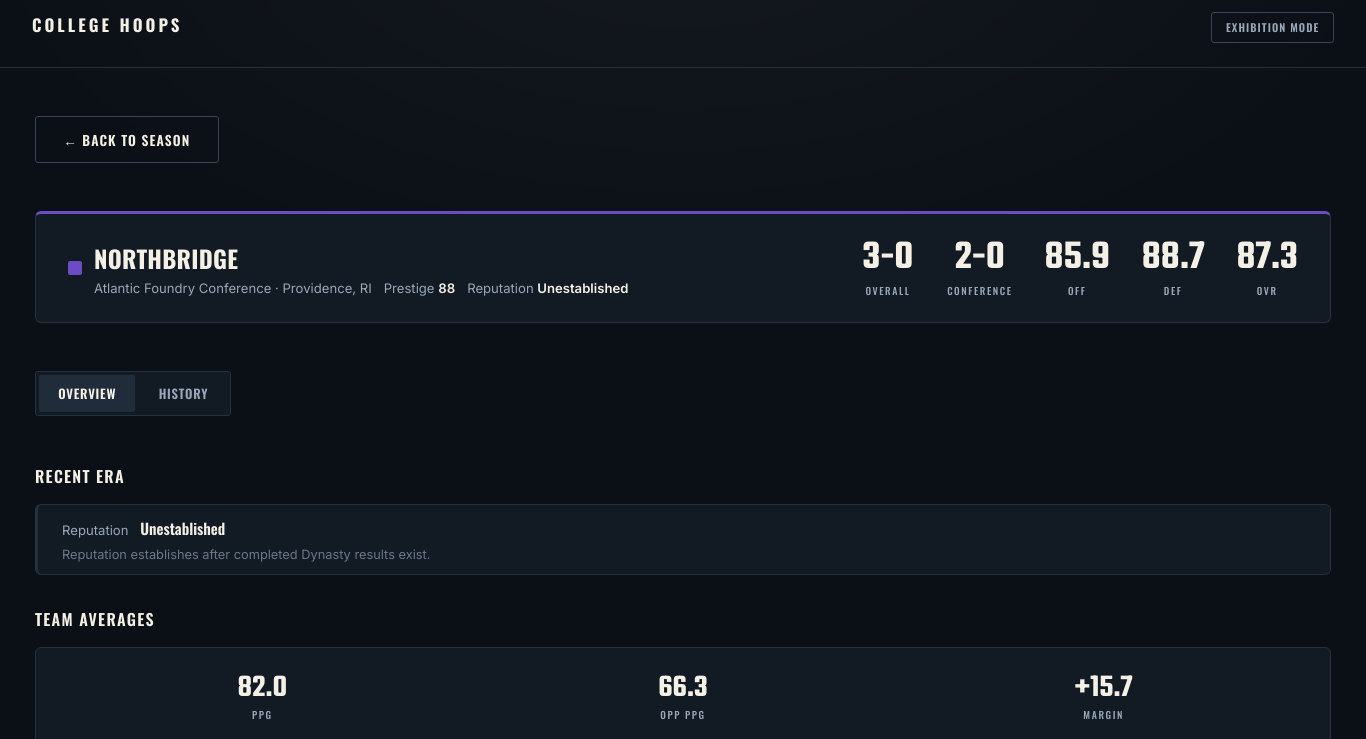
Test case: Team Details › shows live Program Player Records, switches category, and restores Team Details after Player navigation
Step 1. Click the button "History" → (183, 393), box [139,375,227,412]
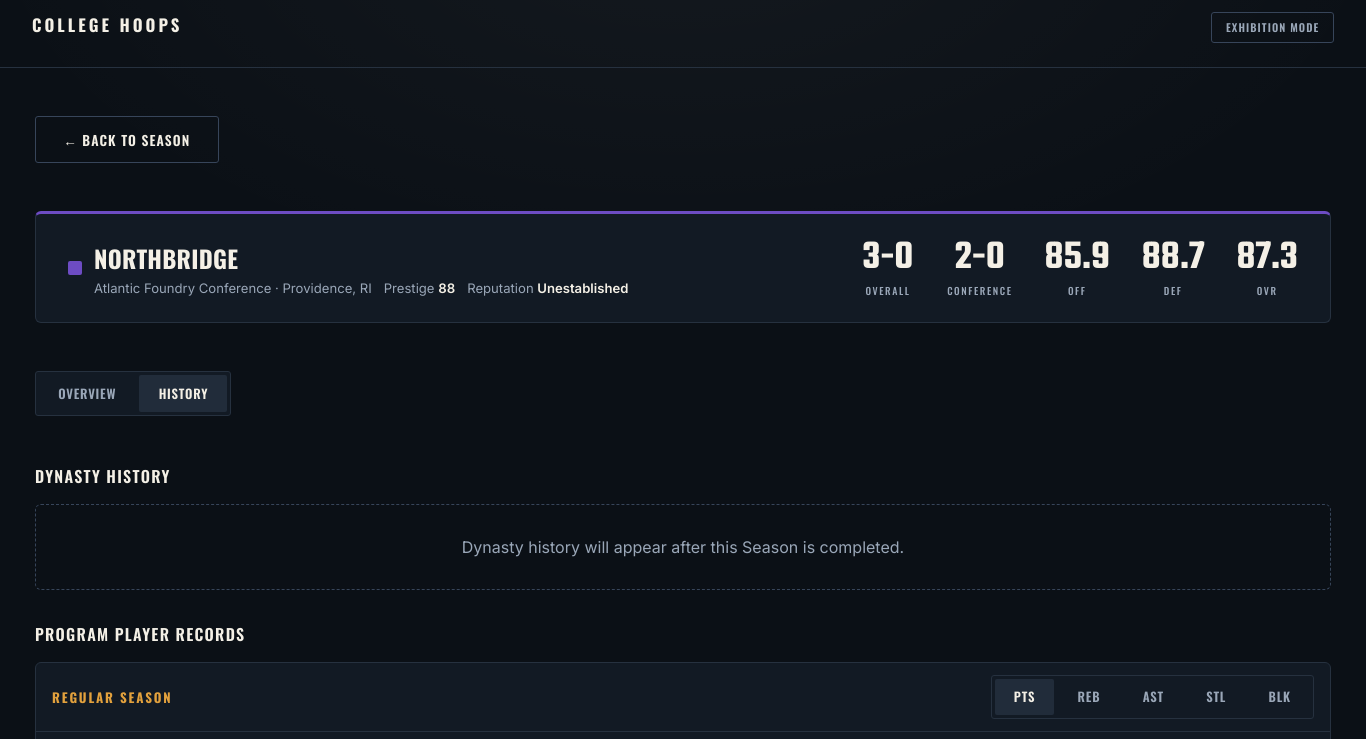
Step 2. Click the button "REB" → (1089, 697), box [1058,679,1120,715]
(page scrolled)
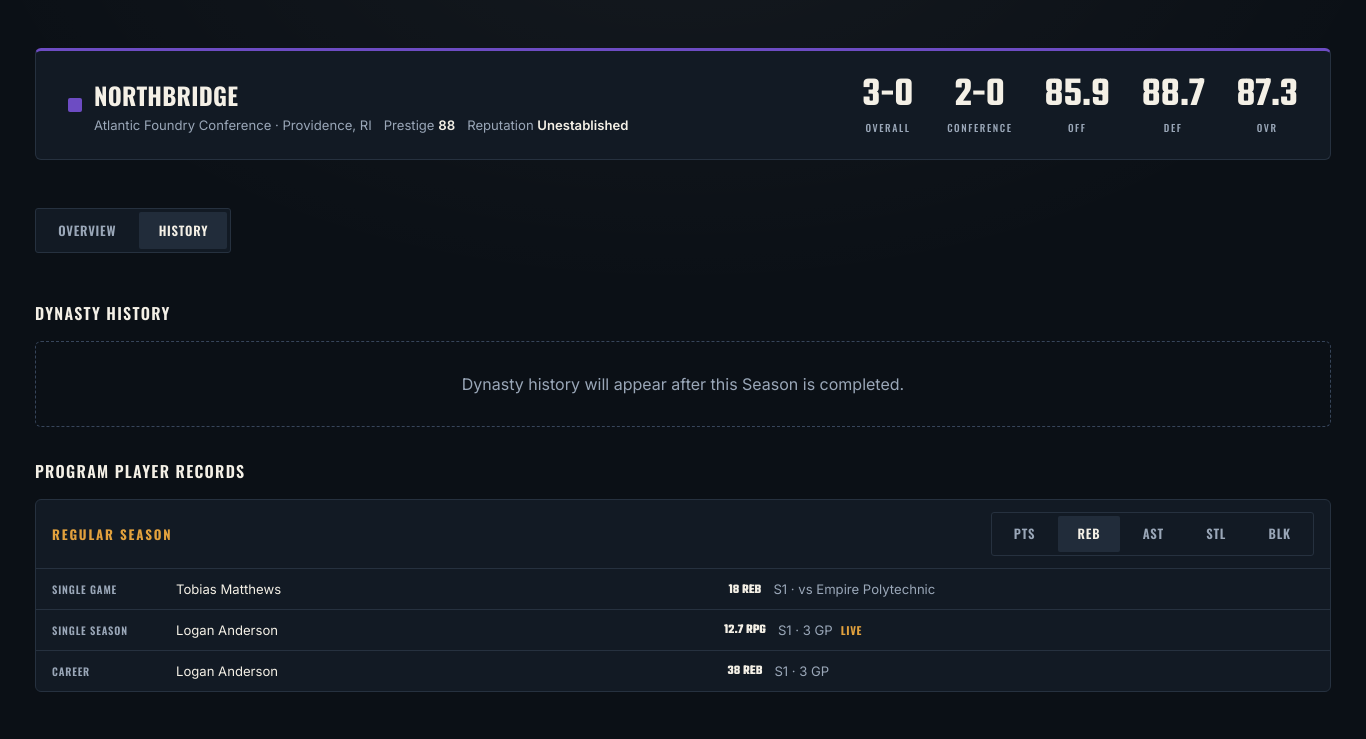
Expected: the button "REB" is pressed, [1058,516,1120,552]
Step 3. Click the button "Tobias Matthews" → (196, 589), box [176,581,717,597]
(page scrolled)
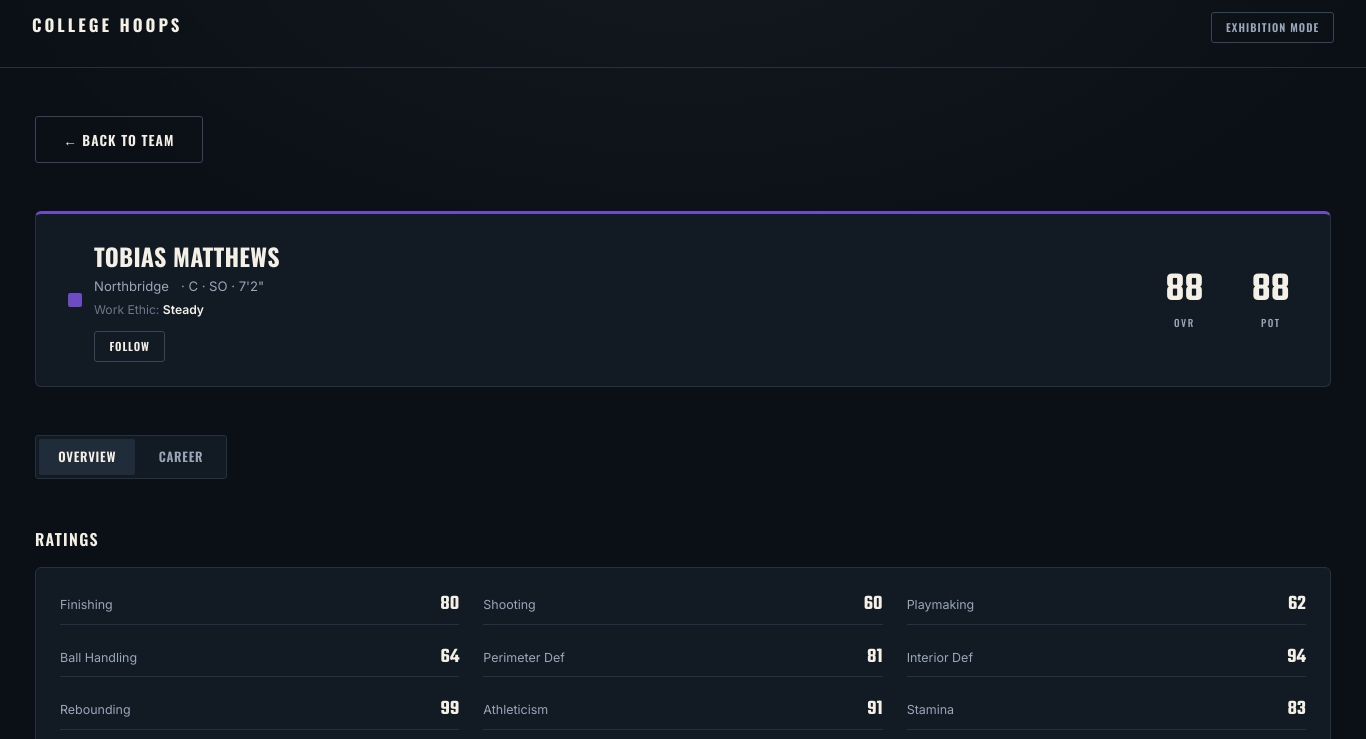
Step 4. Click the button "← Back to Team" → (119, 140), box [35,116,203,163]
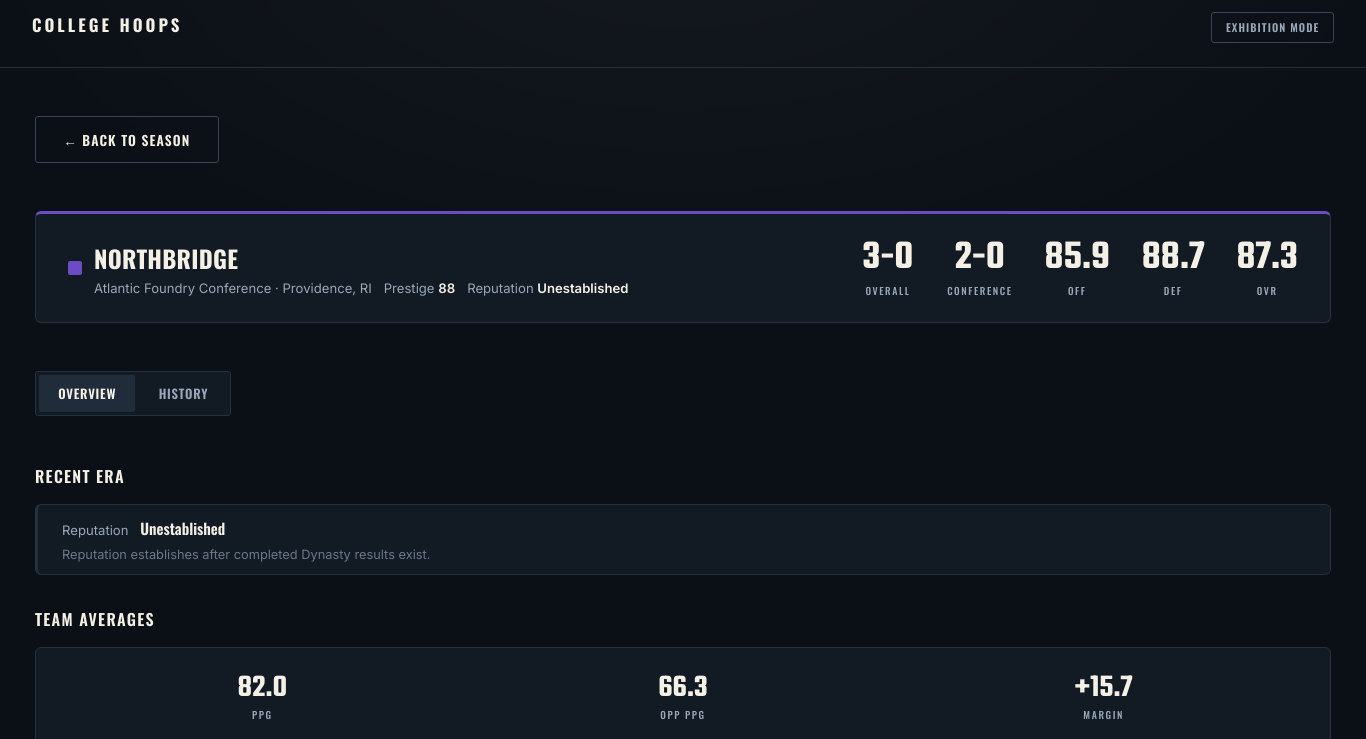
Expected: the heading "Program Player Records" is not shown
Expected: the heading "Team Averages" is shown, [35,607,155,631]
